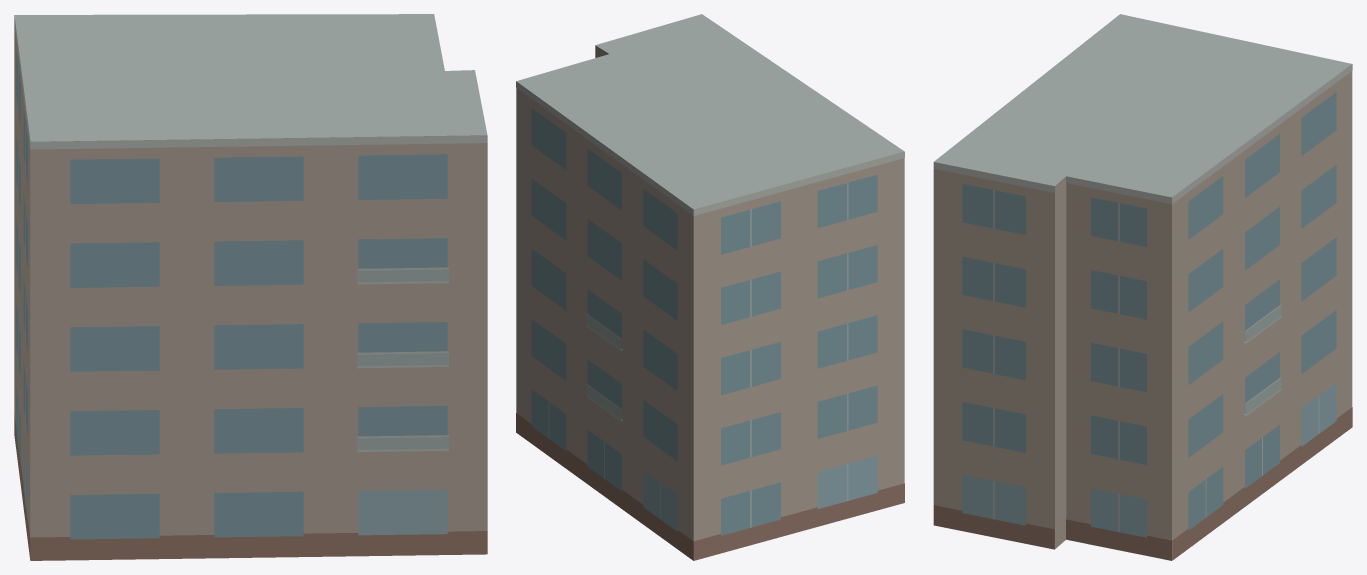
File: survey-upis-32879958.glb
The picture shows the model from 3 angles, left to right: view 1: azimuth 30°, elevation 25°; view 2: azimuth 150°, elevation 25°; view 3: azimuth 270°, elevation 25°; orthographic projection. The views are drawn at different scales.
Parts seen in each view (by area): view 1: survey-upis-32879958.tmp; view 2: survey-upis-32879958.tmp; view 3: survey-upis-32879958.tmp.
Part boxes in pixels (box(x1,y1,x2,y2)): survey-upis-32879958.tmp: box(14, 14, 487, 560); survey-upis-32879958.tmp: box(516, 14, 904, 560); survey-upis-32879958.tmp: box(933, 14, 1352, 560).
Size of the model in its own units: 14.19 by 13.1 by 13.69.
